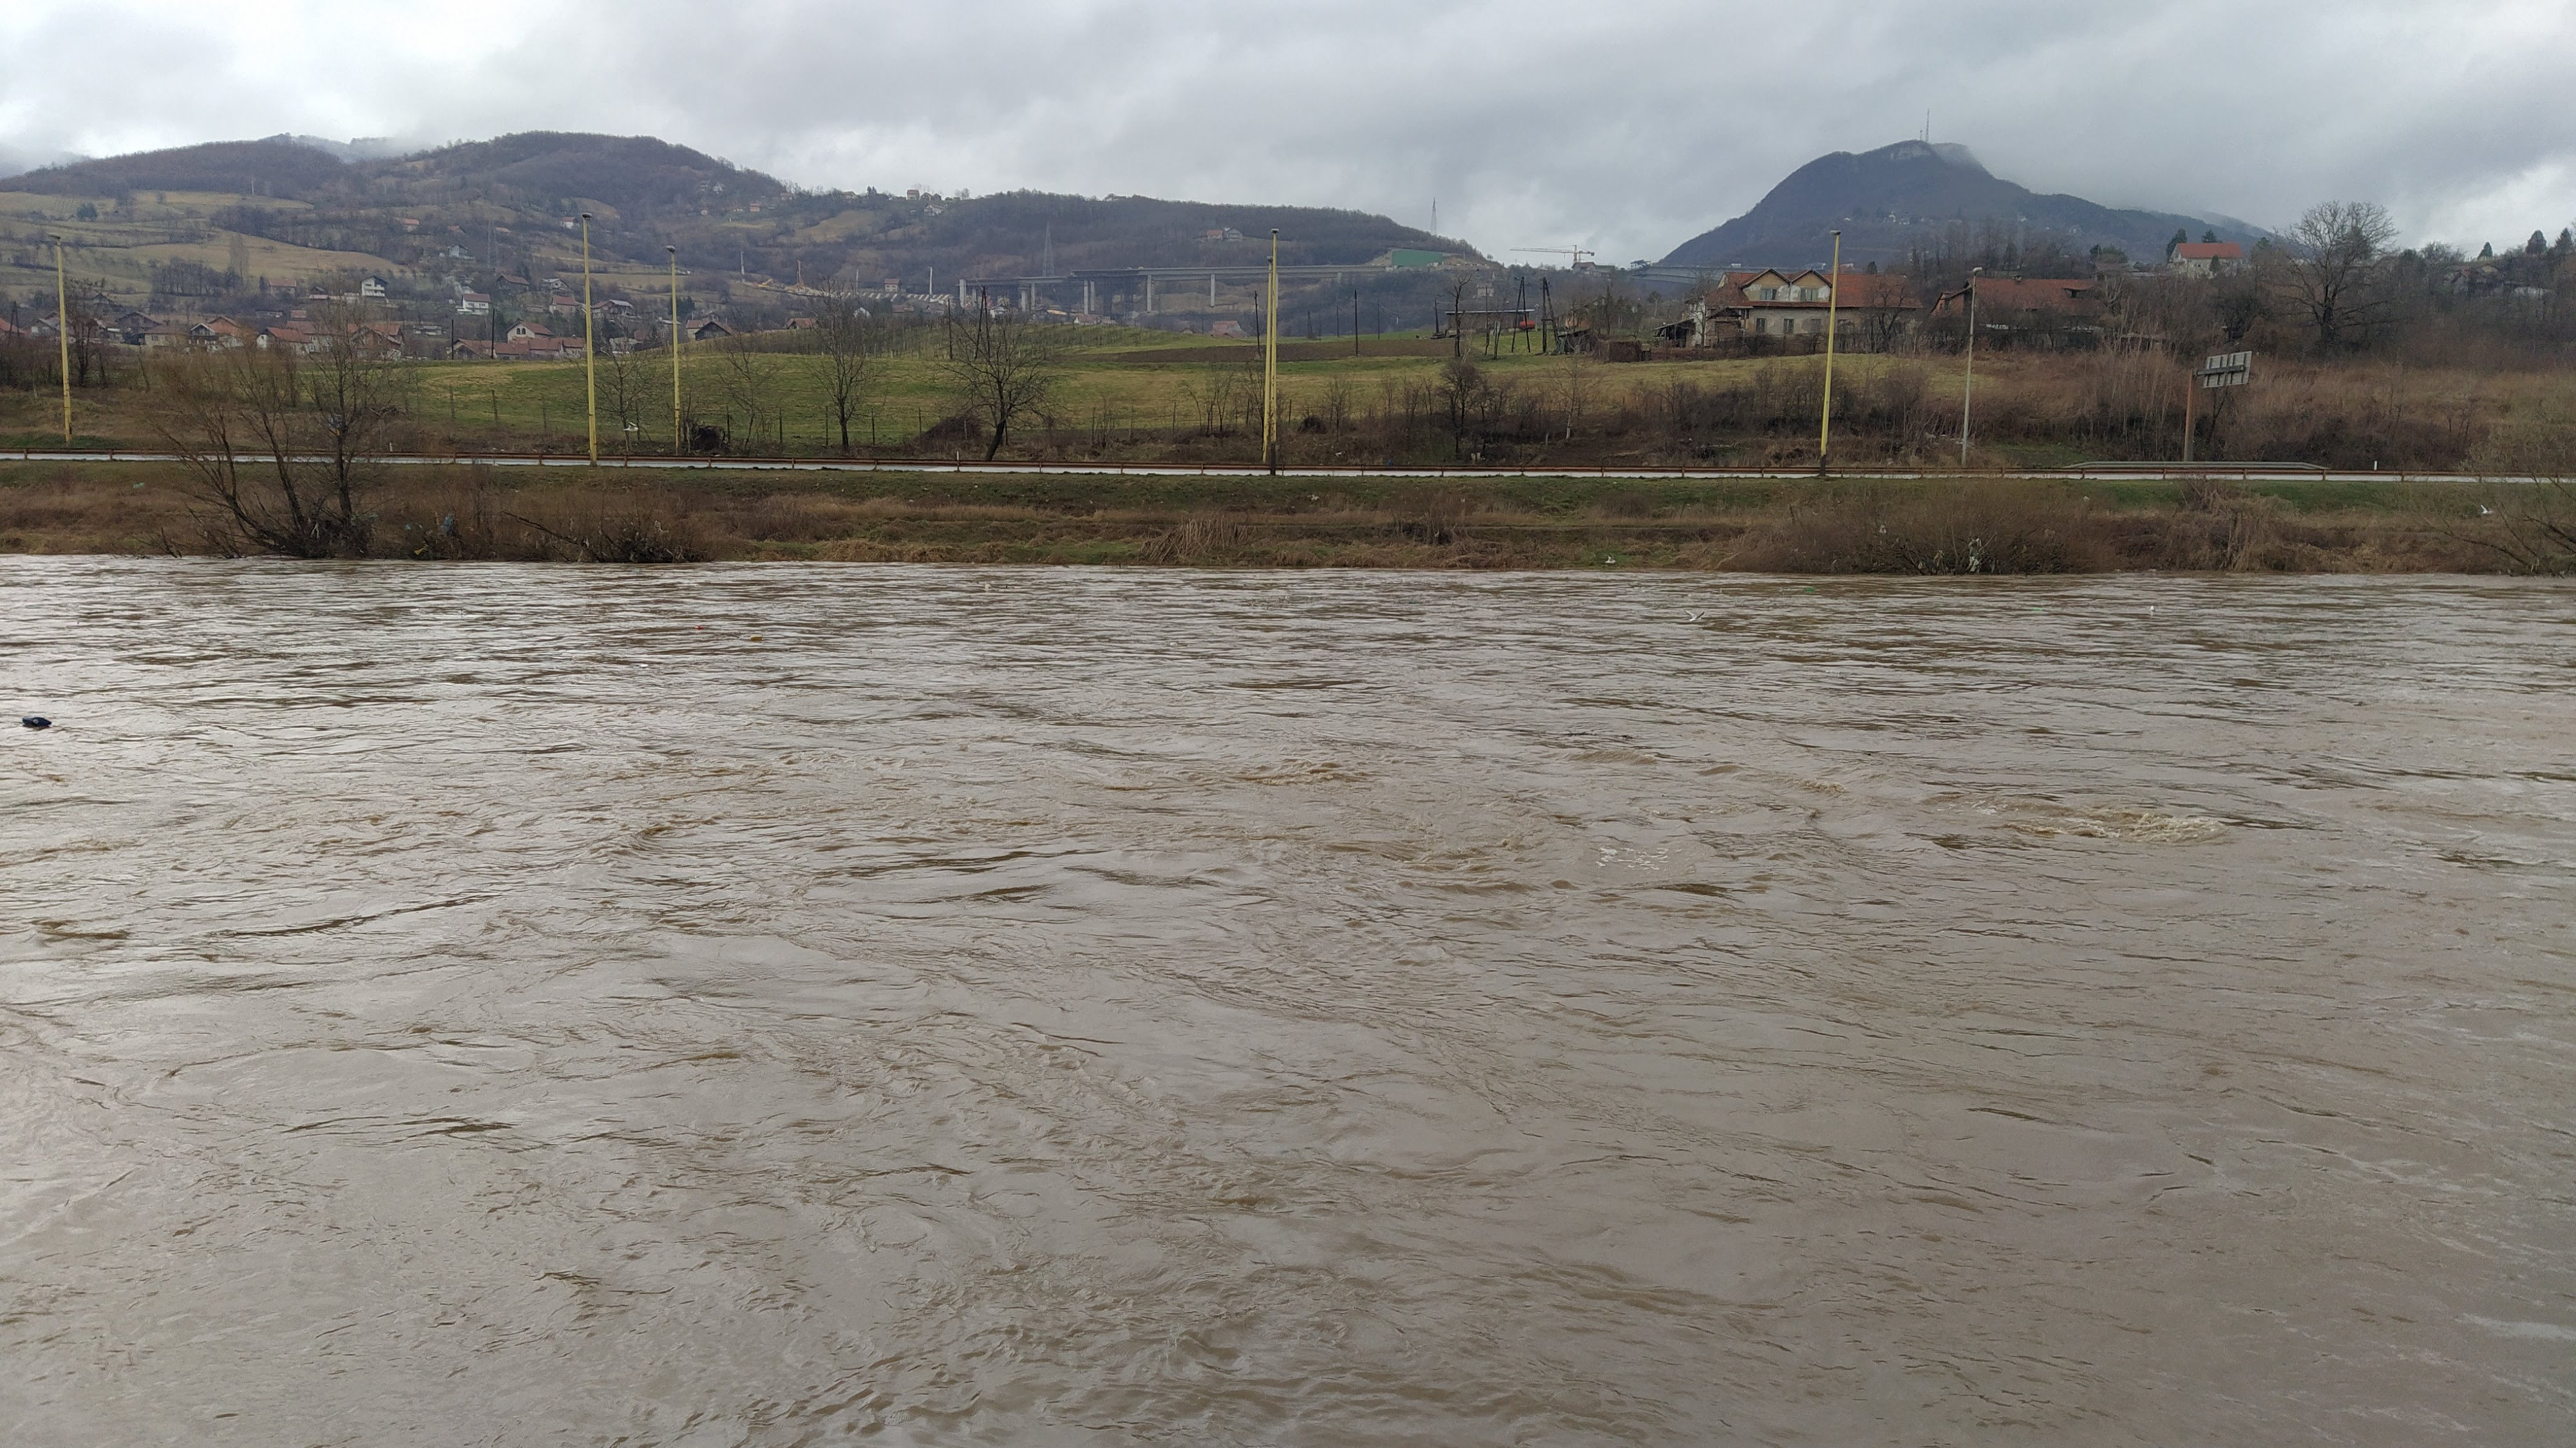Plastic Bottle: (412, 609, 441, 620), (23, 717, 53, 726), (750, 634, 763, 639), (2033, 605, 2043, 611), (1805, 586, 1813, 589)
